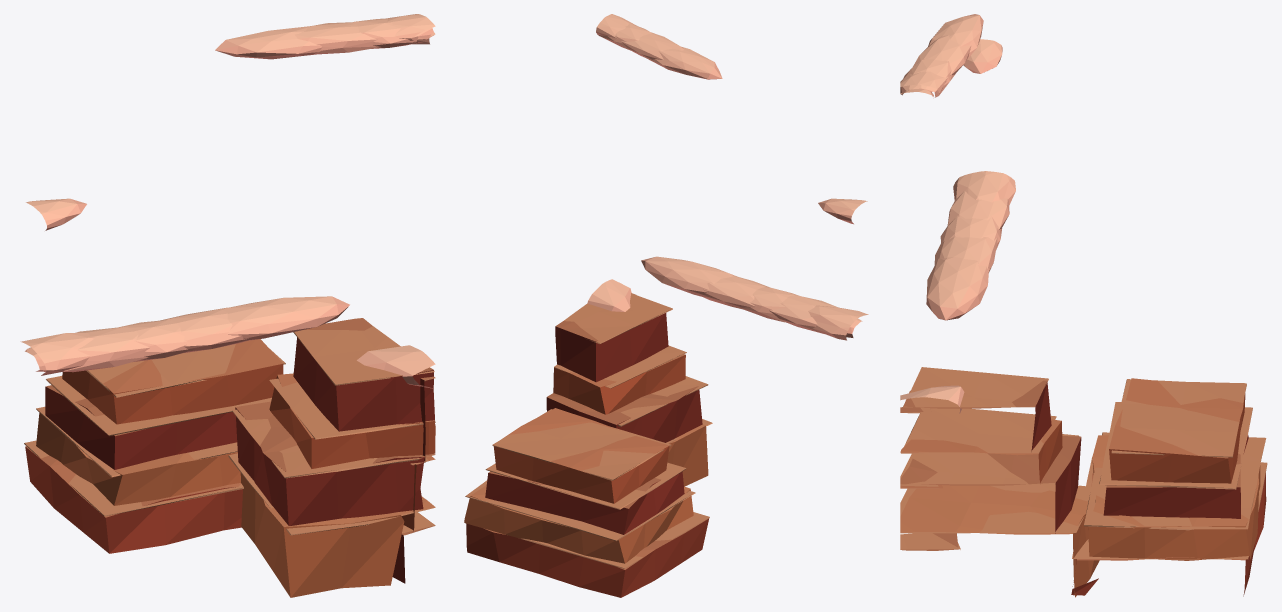
The picture shows the model from 3 angles, left to right: view 1: azimuth 30°, elevation 25°; view 2: azimuth 150°, elevation 25°; view 3: azimuth 270°, elevation 25°; orthographic projection. The views are drawn at different scales.
Parts seen in each view (by area): view 1: scene.4.0 (×2); view 2: scene.4.0 (×2); view 3: scene.4.0 (×2).
Boxes of the visible parts, x1,y1,x2,y2 form: scene.4.0 (×2): (20,14,435,597); scene.4.0 (×2): (464,14,868,597); scene.4.0 (×2): (900,14,1267,597).
Bounding box in the file's own units: 62.5 × 92.15 × 59.61.
